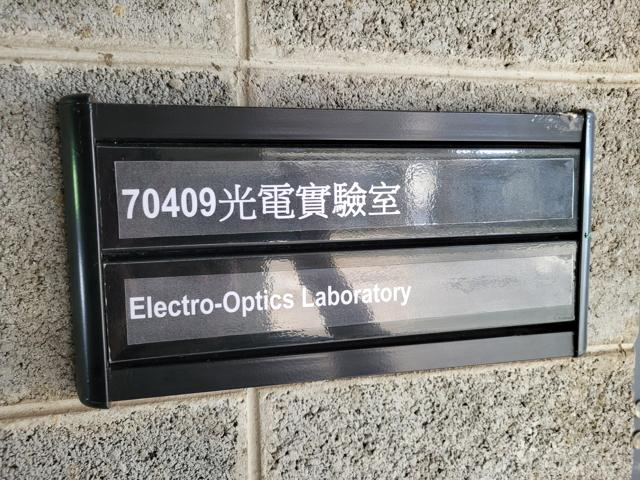doorplate: (48, 84, 605, 409)
